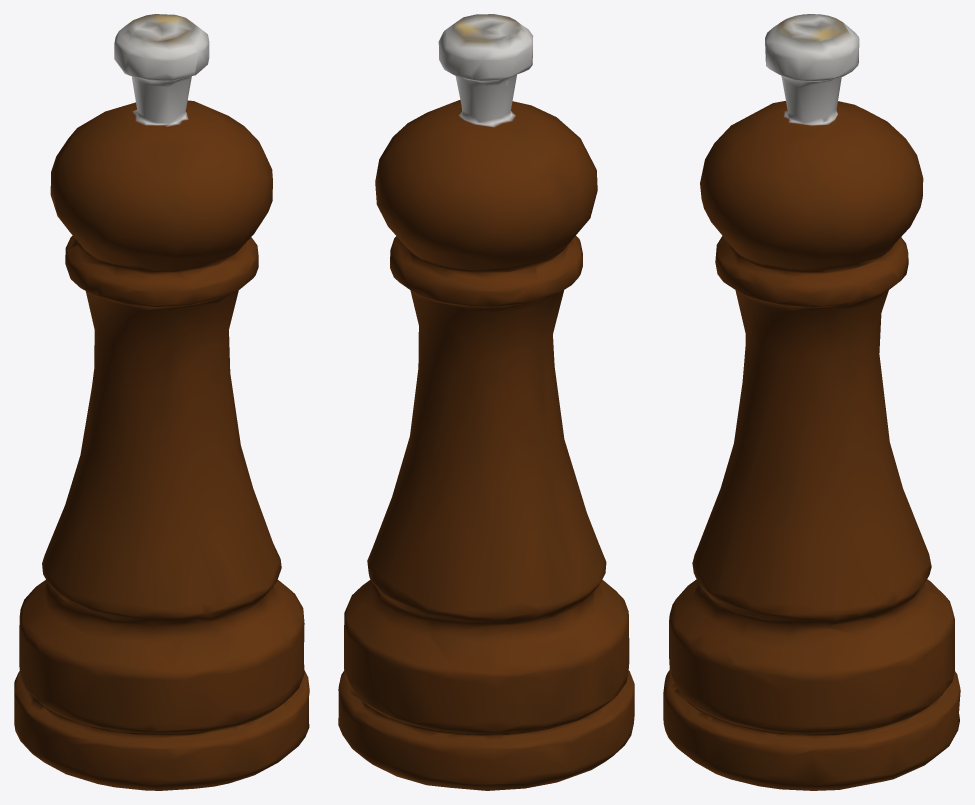
The model's file is gen3d-pepper-mill-lod0.glb.
3 views of the same model, side by side, from view 1: azimuth 30°, elevation 25°; view 2: azimuth 150°, elevation 25°; view 3: azimuth 270°, elevation 25° (orthographic).
Parts seen in each view (by area): view 1: part_0; view 2: part_0; view 3: part_0.
Boxes of the visible parts, x1,y1,x2,y2 form: part_0: (14,14,309,790); part_0: (338,14,634,790); part_0: (663,14,960,790).
Size of the model in its own units: 0.3813 by 1 by 0.381.
